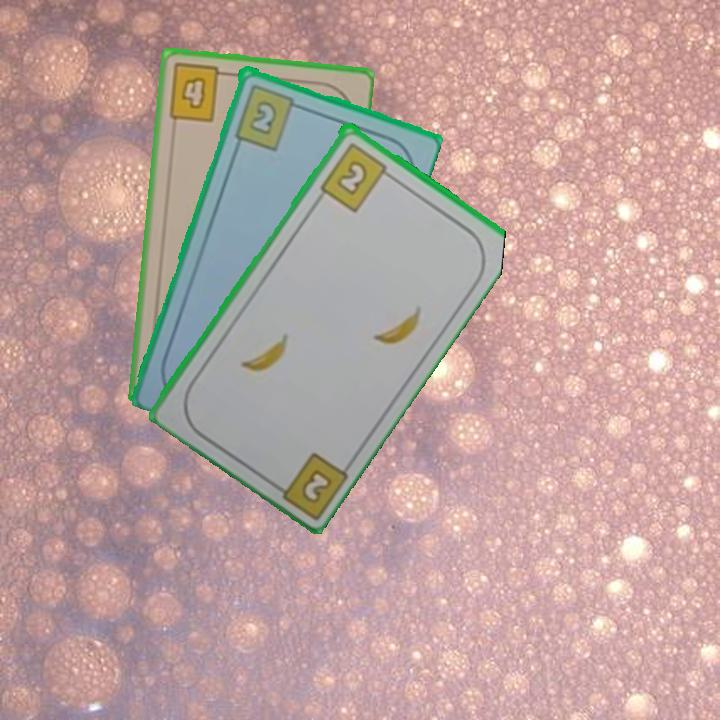2b: (316, 138, 396, 215), (231, 80, 305, 152), (297, 465, 335, 506)
4b: (164, 60, 233, 125)
